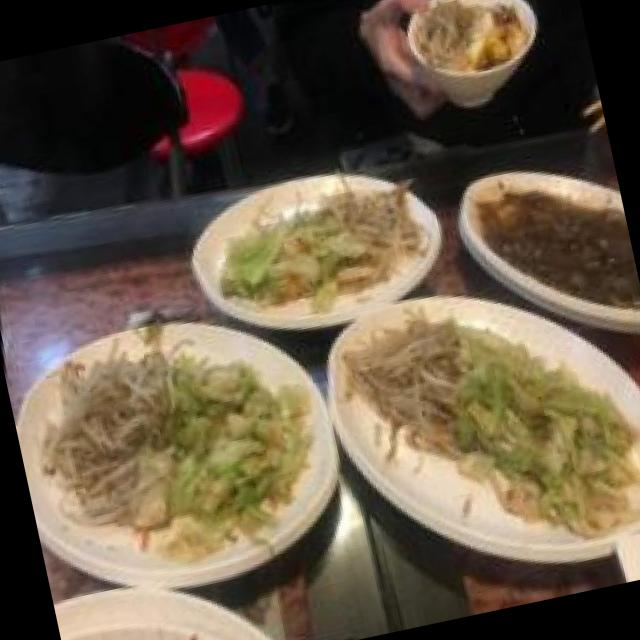chinese_cabbage: (125, 324, 346, 577), (434, 292, 640, 559), (200, 195, 352, 328)
mung_bean_sprouts: (31, 340, 192, 552), (328, 296, 488, 472), (322, 168, 432, 294), (405, 0, 479, 71)
